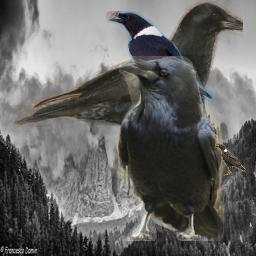Crow: (13, 0, 243, 181), (116, 56, 224, 241), (106, 11, 213, 109), (215, 143, 246, 176)
